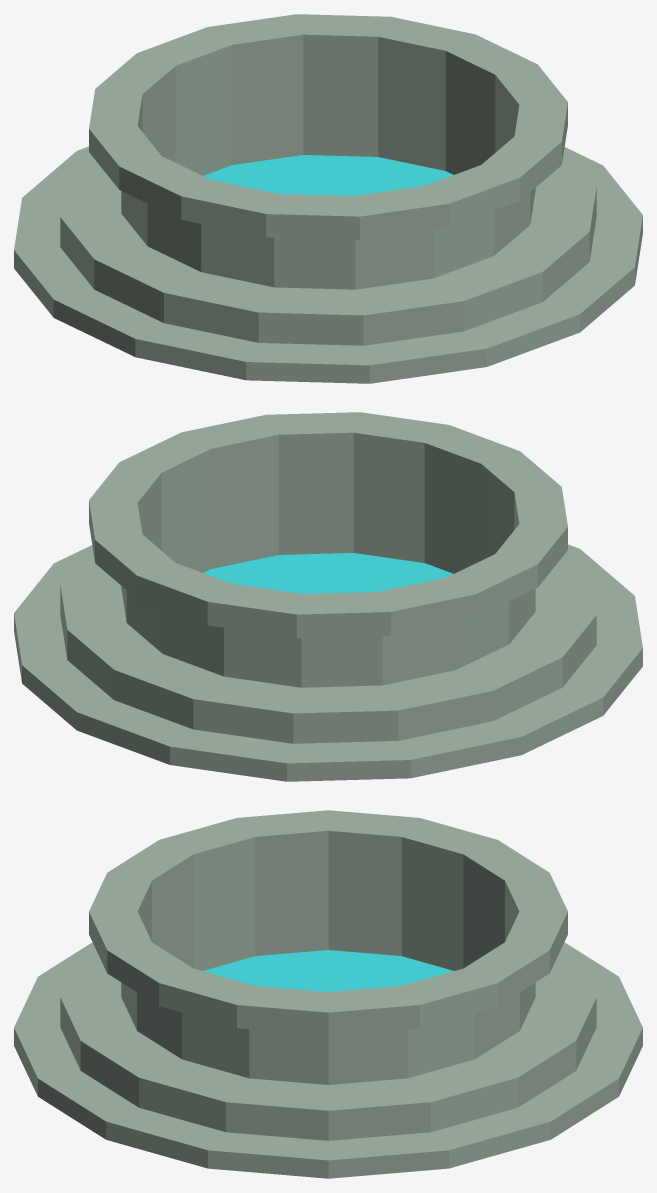
The model's file is Sqare.fbx.
3 renders of one model, top to bottom at view 1: azimuth 30°, elevation 25°; view 2: azimuth 150°, elevation 25°; view 3: azimuth 270°, elevation 25°, orthographic.
Visible parts, largest first — view 1: Circle; view 2: Circle; view 3: Circle.
Boxes of the visible parts, x1,y1,x2,y2 form: Circle: (14, 14, 642, 383); Circle: (14, 412, 642, 781); Circle: (14, 810, 642, 1178).
Size of what is drawn, in the model's own units: 687 by 162 by 687.
